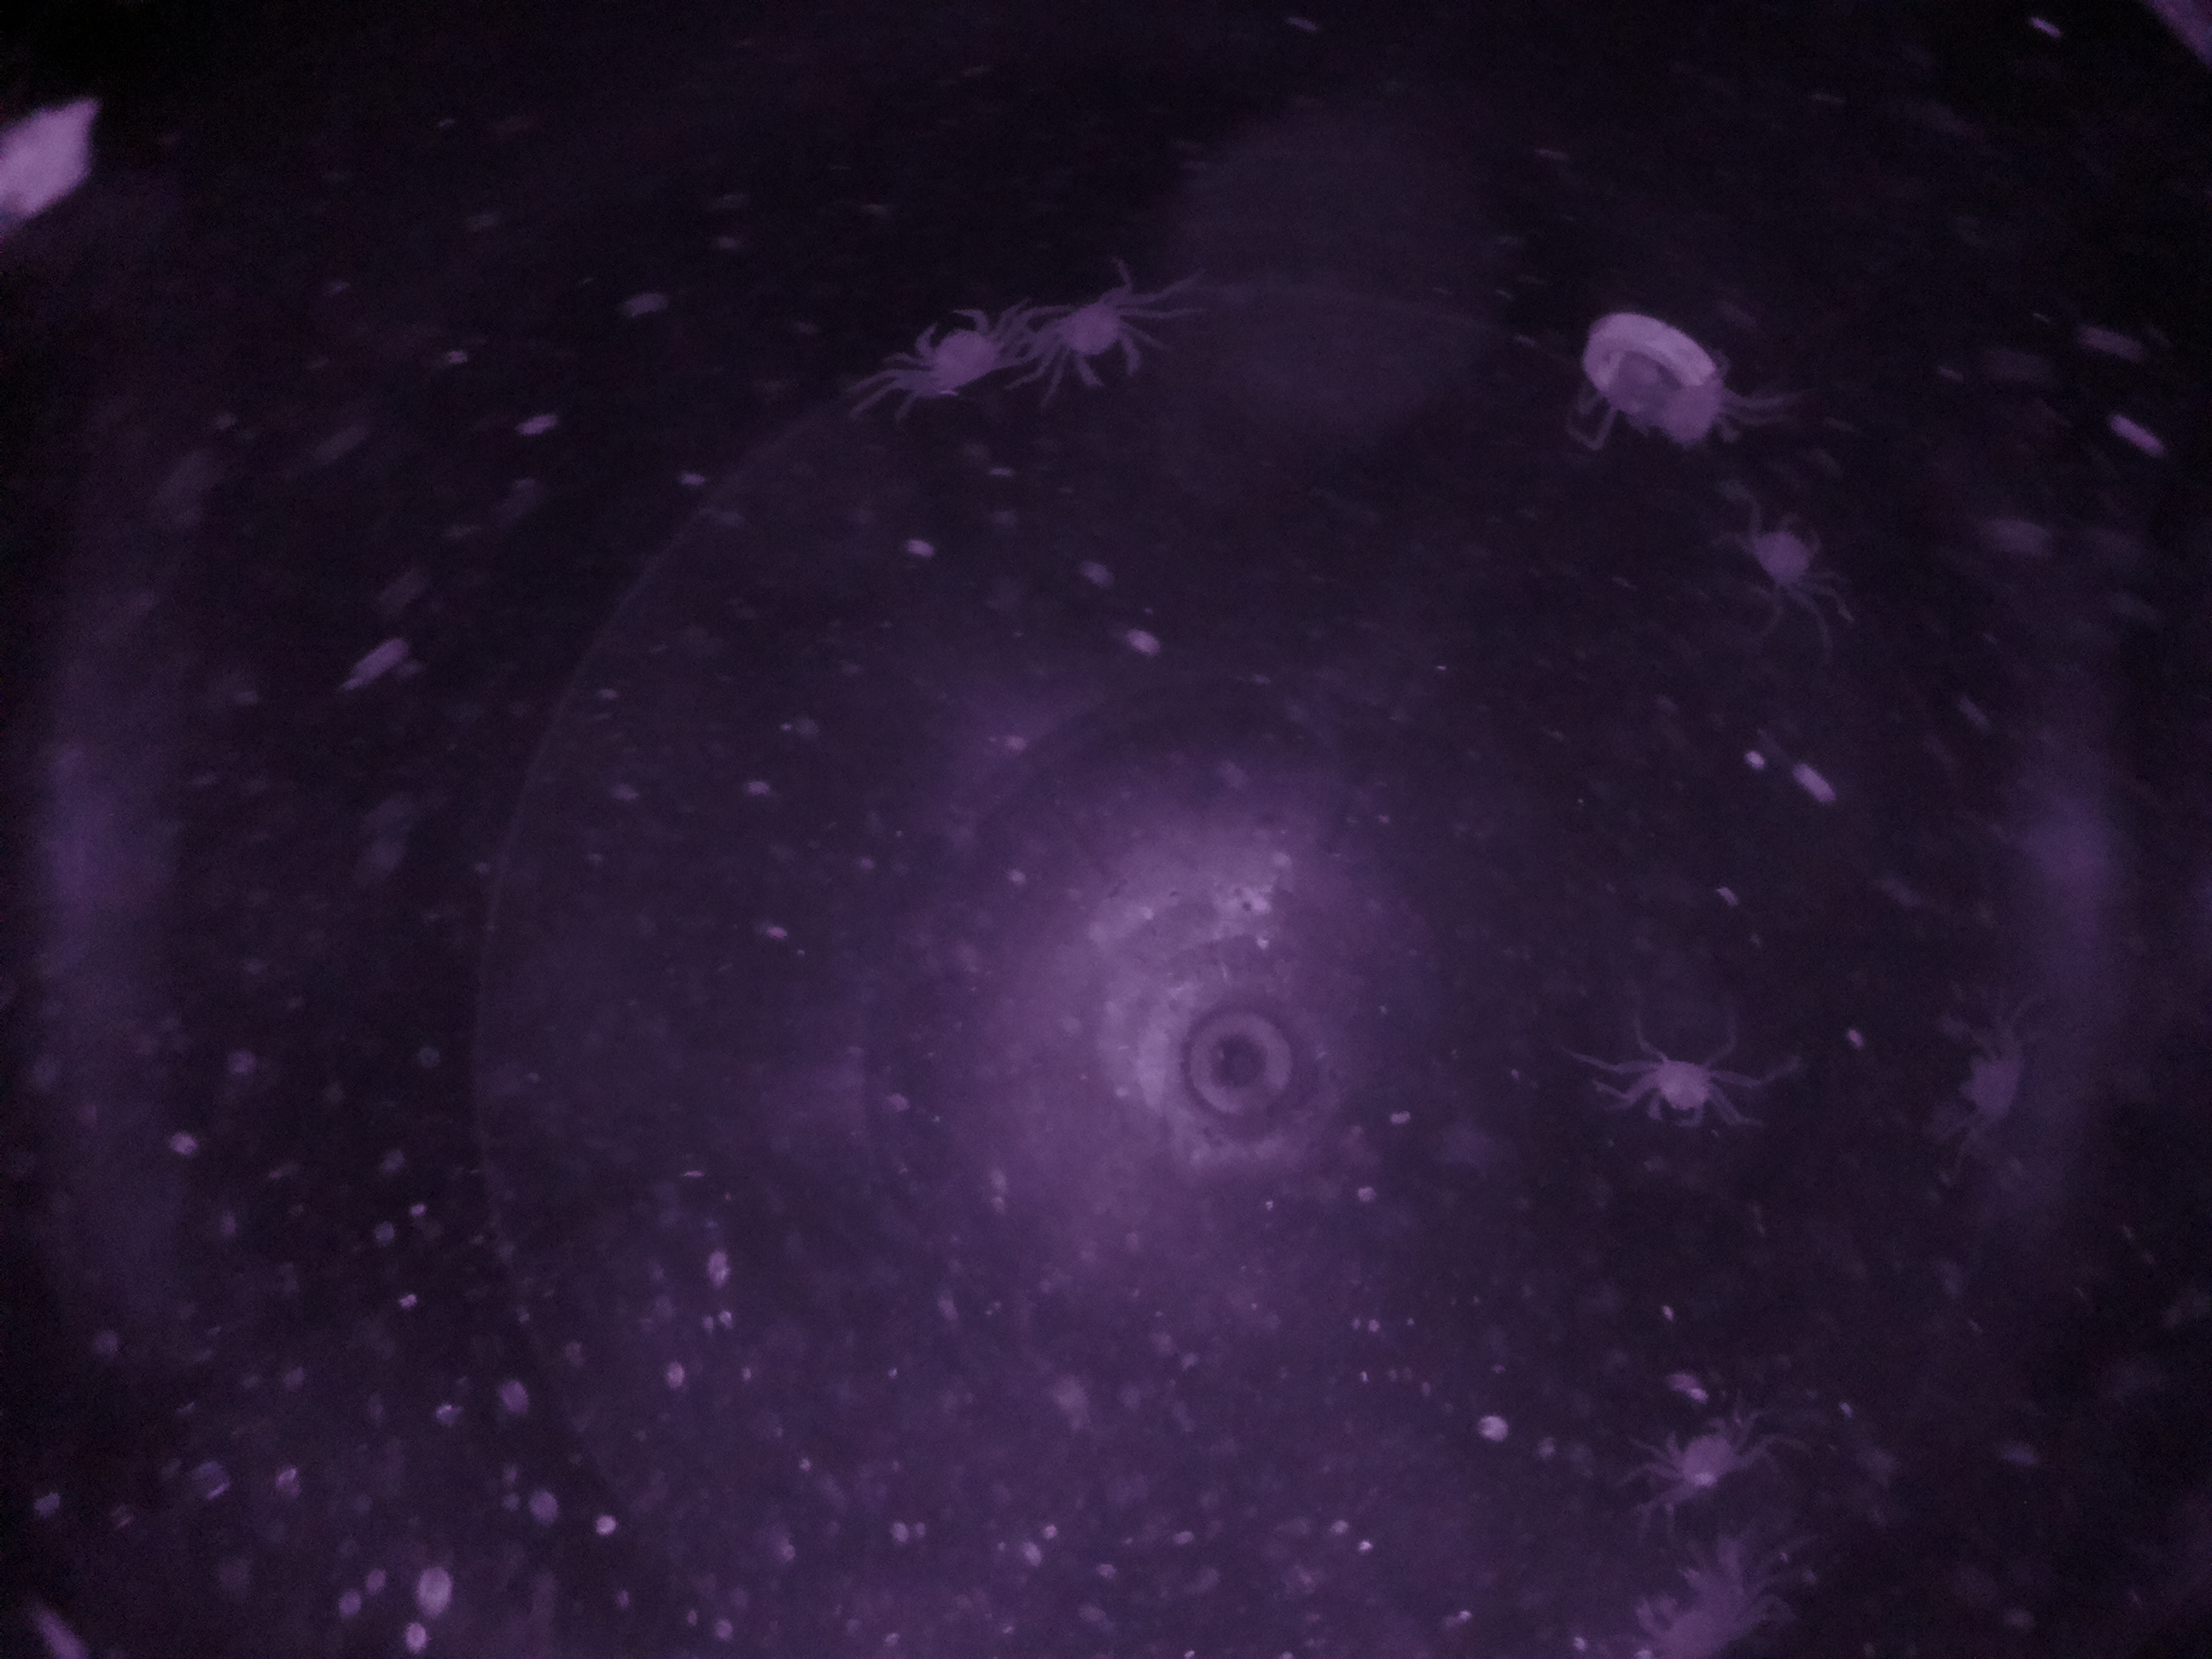Crab: (1043, 261, 1153, 392), (894, 291, 1017, 404), (1726, 500, 1850, 605), (1940, 1021, 2048, 1133), (1635, 1021, 1735, 1140), (1653, 1405, 1750, 1509)
